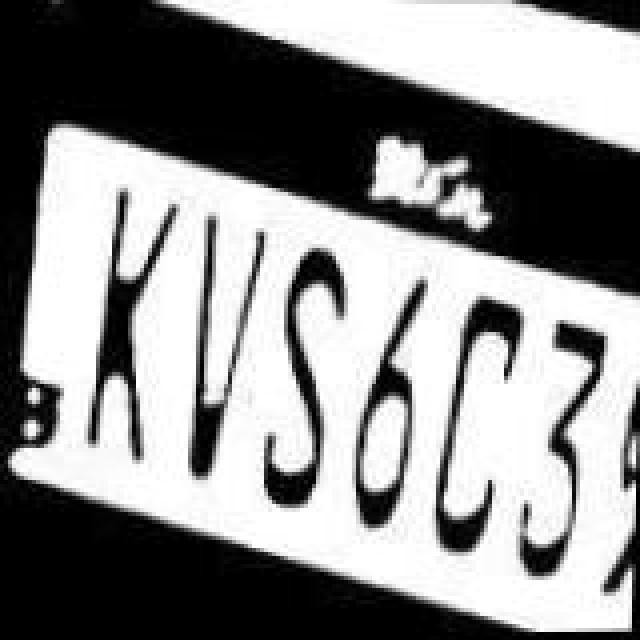3: (510, 314, 610, 586)
6: (348, 264, 424, 532)
C: (426, 288, 526, 584)
K: (80, 180, 176, 468)
S: (256, 234, 356, 526)
V: (176, 202, 268, 490)
